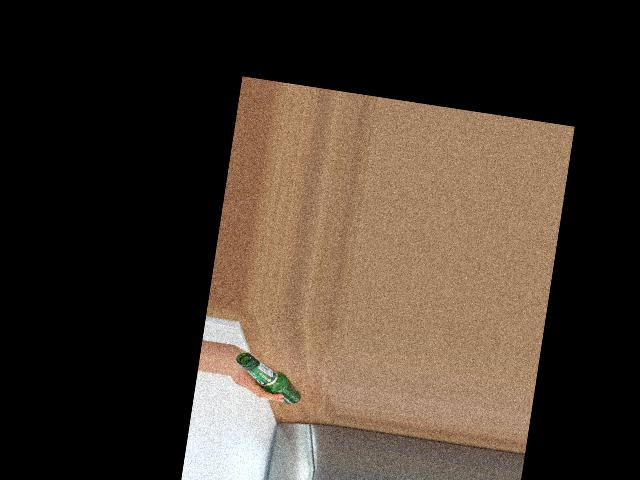beer: (230, 350, 306, 405)
